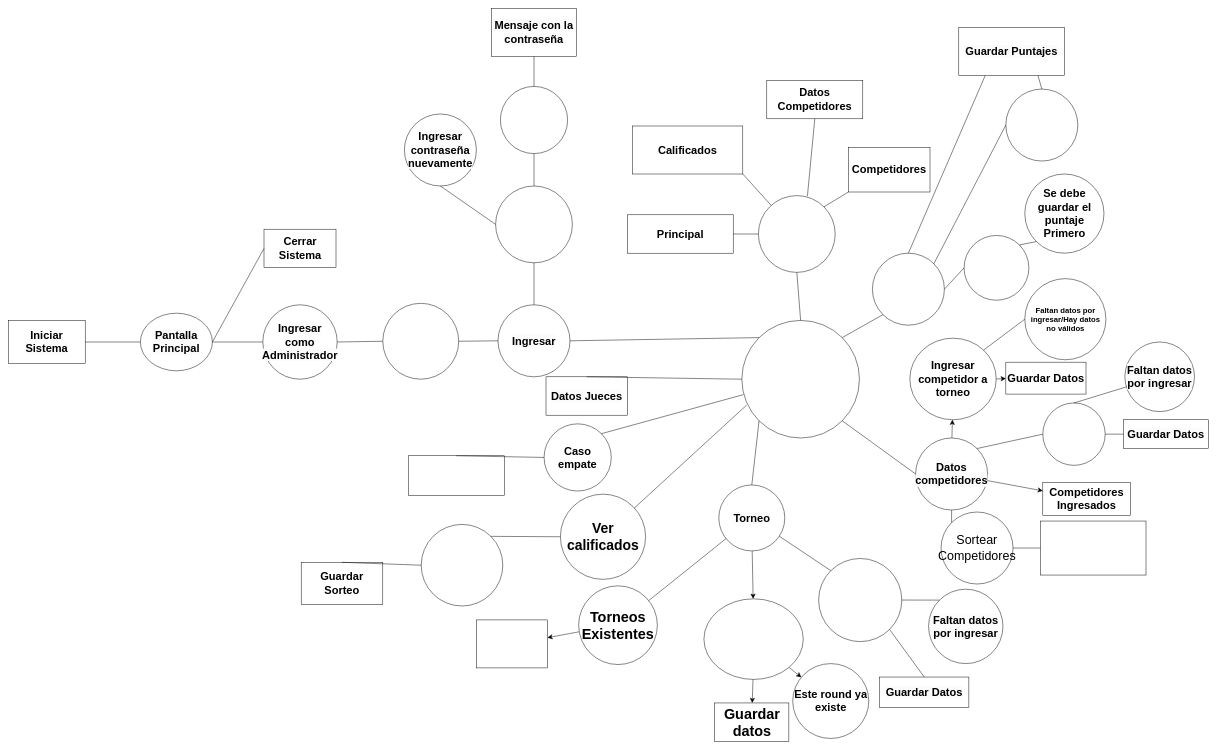
This 1217x750 diagram has some shape labels left out. The centre of each missing label's shape, as x and y in pixels:
"Contraseña Incorrecta" belongs at (533,224).
"Control" belongs at (800,379).
"Crear Round" belongs at (753,638).
"Crear torneo" belongs at (860,600).
"Eliminar torneo" belongs at (511,643).
"Enviar Puntaje a pantalla" belongs at (996,267).
"Ingresar Competidor" belongs at (1073,433).
"Modificar Puntaje" belongs at (1041,125).
"Mostar Pantalla" belongs at (796,233).
"Olvidé la contraseña" belongs at (534,120).
"Pantalla Log in" belongs at (420,341).
"Sortear" belongs at (1093,548).
"Sortear Ganador" belongs at (456,475).
"Sorteo" belongs at (462,565).
"Validar Puntaje" belongs at (908,289).
